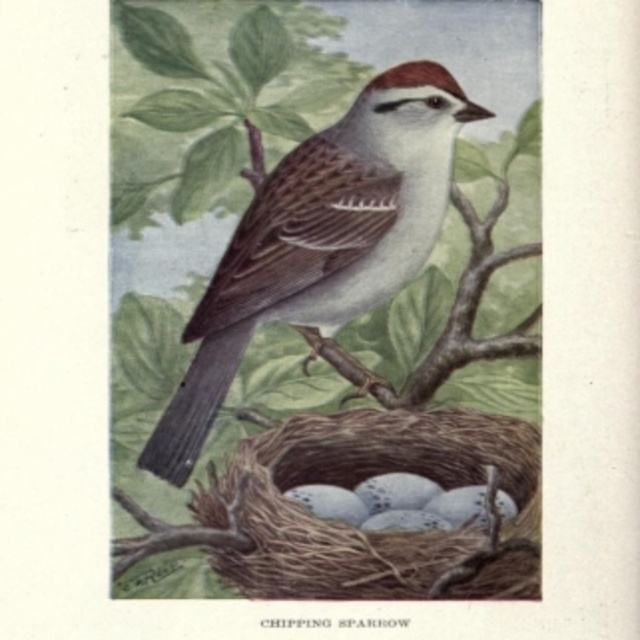Sparrow: (134, 52, 496, 485)
